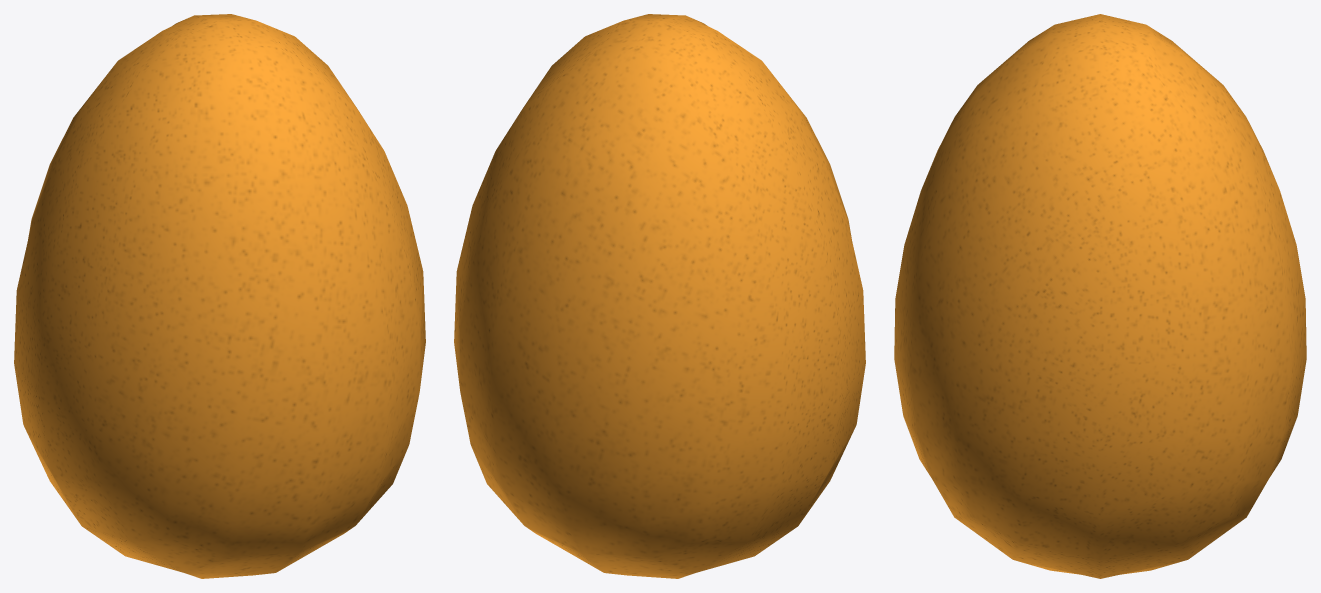
Rendered from egg.glb.
3 views of the same model, side by side, from view 1: azimuth 30°, elevation 25°; view 2: azimuth 150°, elevation 25°; view 3: azimuth 270°, elevation 25° (orthographic).
Parts seen in each view (by area): view 1: egg; view 2: egg; view 3: egg.
Boxes of the visible parts, left/top/right/bottom form: egg: left=14, top=14, right=425, bottom=578; egg: left=454, top=14, right=865, bottom=578; egg: left=894, top=14, right=1306, bottom=578.
Bounding box in the file's own units: 0.0906 × 0.1298 × 0.0902.
Materials: 1 (1 with a texture image).
